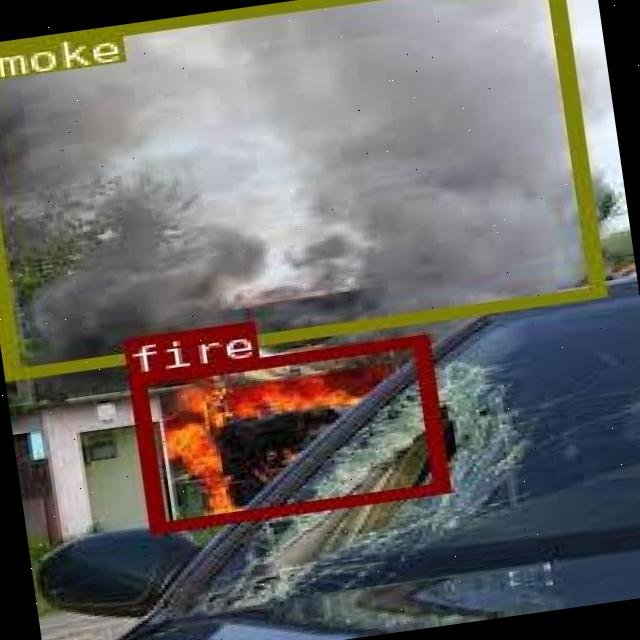fire: (126, 334, 448, 532)
smoke: (0, 0, 601, 377)
